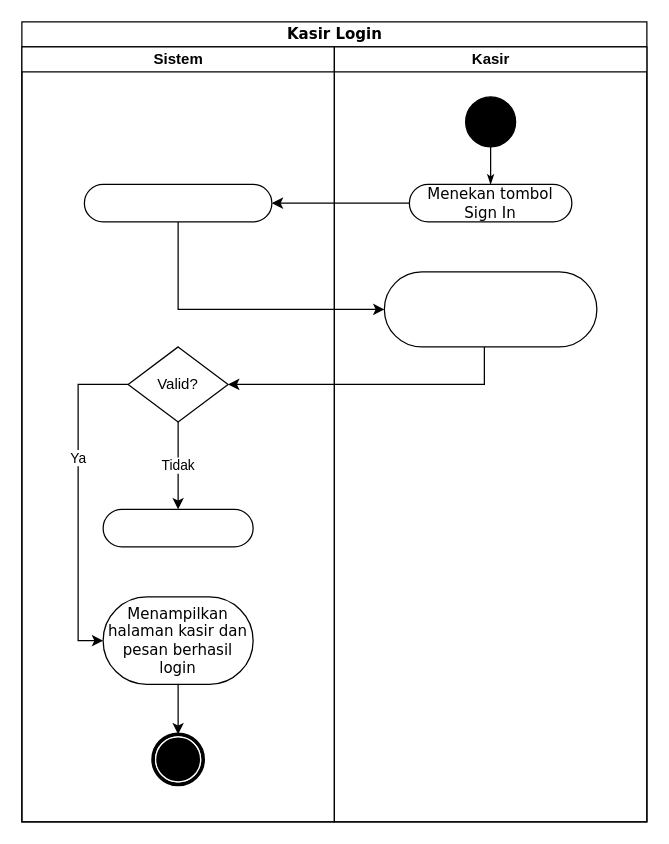
Image size: 669x844. Some labels were removed from this diagram. Each missing label, with the centre of its shape:
"Memilih role 'cashier' dan mengisi data kredensial akun" goes at [490,309].
"Menampilkan pesan error" goes at [177,527].
"Menampilkan Sign In Modal" goes at [177,202].
